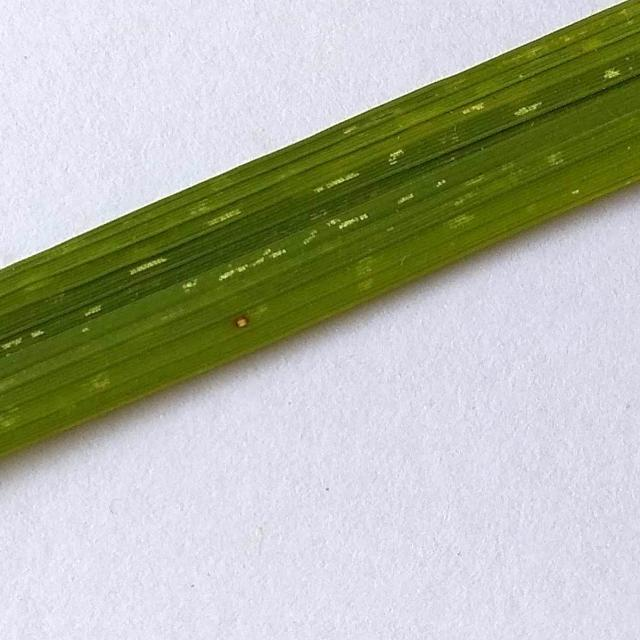Blast: (234, 314, 252, 331)
